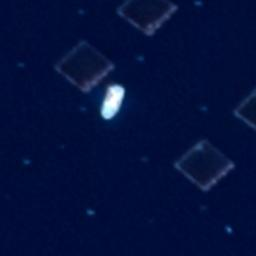square_solid: (167, 135, 238, 196), (51, 37, 119, 97), (112, 1, 181, 40), (230, 84, 256, 130)
